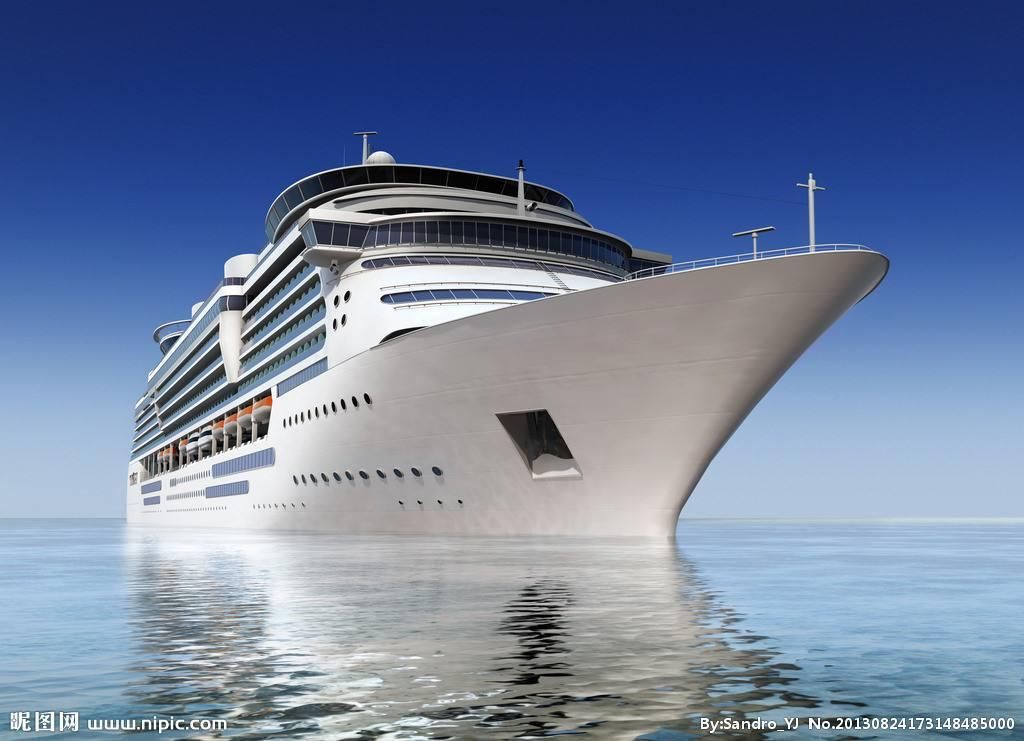youlun: (112, 125, 903, 527)
